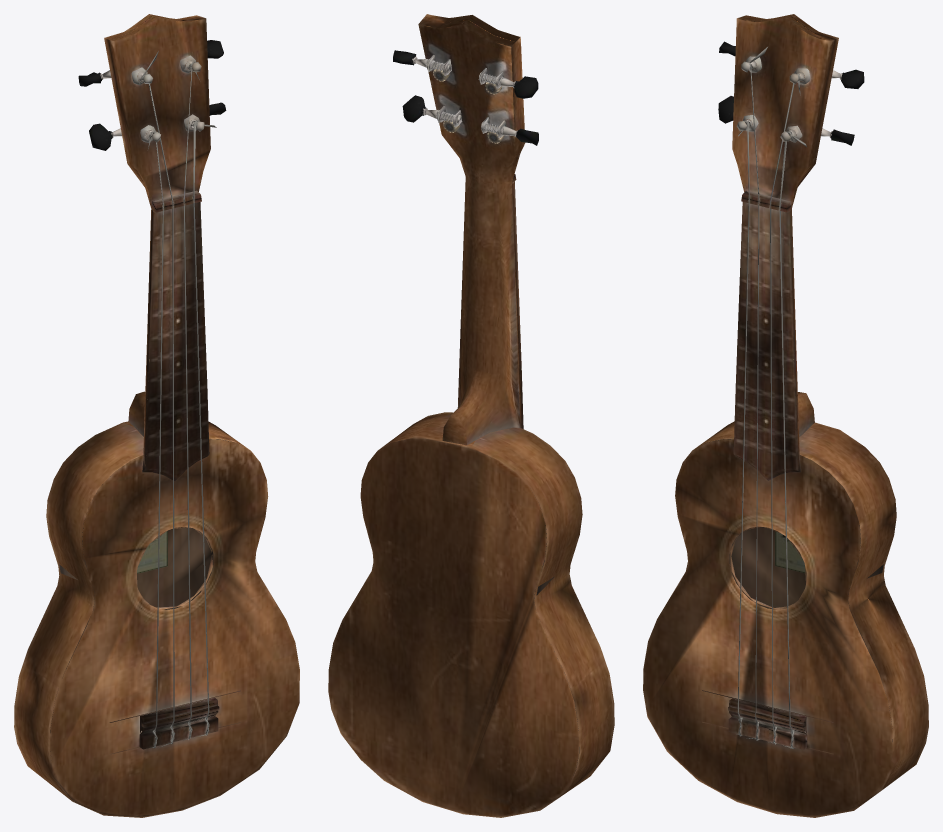
Rendered from Ukulele_01.gltf.
3 renders of one model, left to right at view 1: azimuth 30°, elevation 25°; view 2: azimuth 150°, elevation 25°; view 3: azimuth 330°, elevation 25°, orthographic.
Visible parts, largest first — view 1: Ukulele_01; view 2: Ukulele_01; view 3: Ukulele_01.
Part boxes in pixels (x1=…): Ukulele_01: x1=14, y1=14, x2=299, y2=817; Ukulele_01: x1=328, y1=14, x2=614, y2=817; Ukulele_01: x1=643, y1=14, x2=928, y2=817.
Size of the model in its own units: 0.1765 by 0.527 by 0.0509.
Materials: 1 (1 with a texture image).
